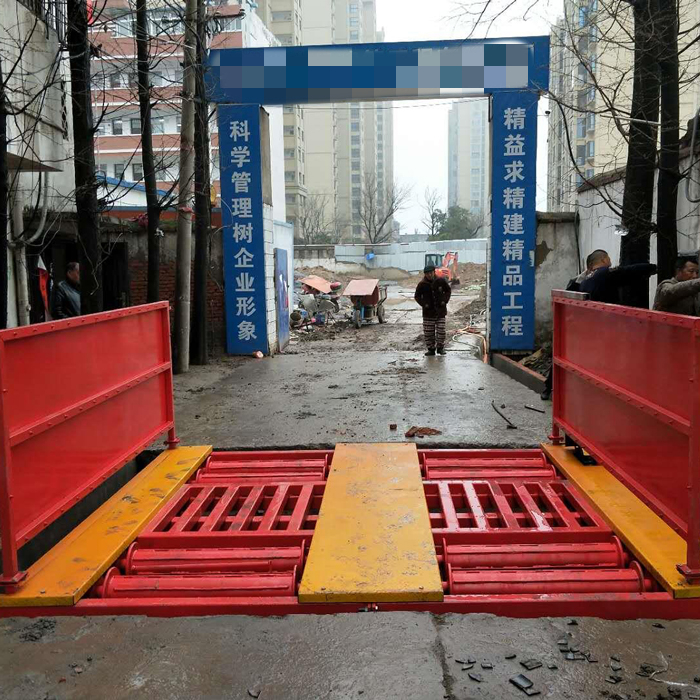person: (414, 265, 452, 357), (567, 248, 620, 300)
slogan: (216, 106, 267, 353), (493, 92, 534, 349)
